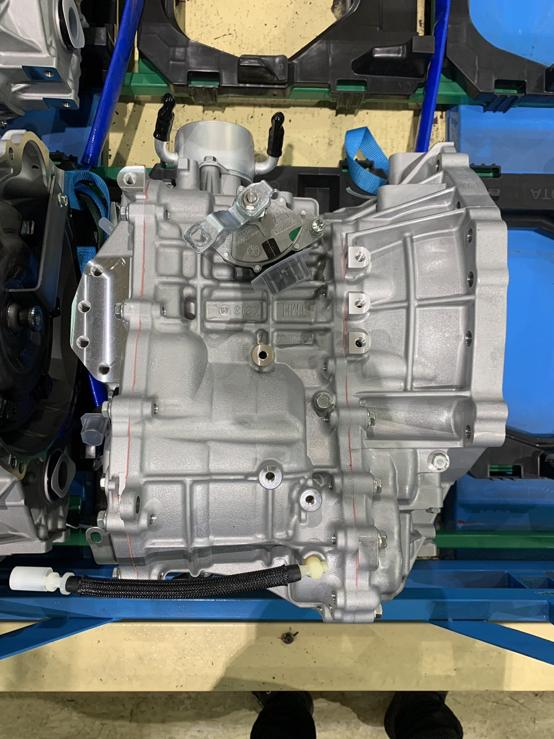gearbox_type1: (70, 114, 511, 627)
gearbox_type1_FP1: (346, 245, 372, 277), (346, 289, 372, 320), (348, 330, 371, 360)
gearbox_type1_FP2: (117, 160, 151, 199)
